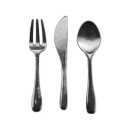Fork: (19, 11, 52, 113)
